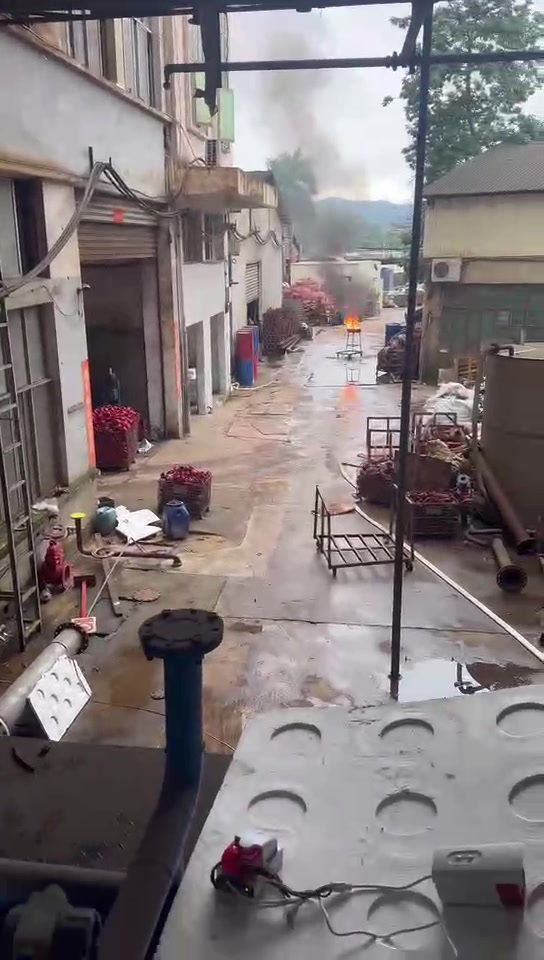fire: (343, 313, 359, 329)
